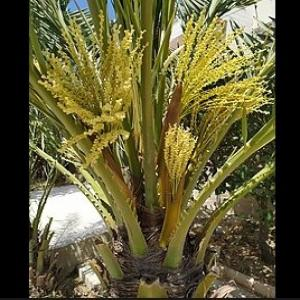palm tree: (28, 0, 275, 297)
